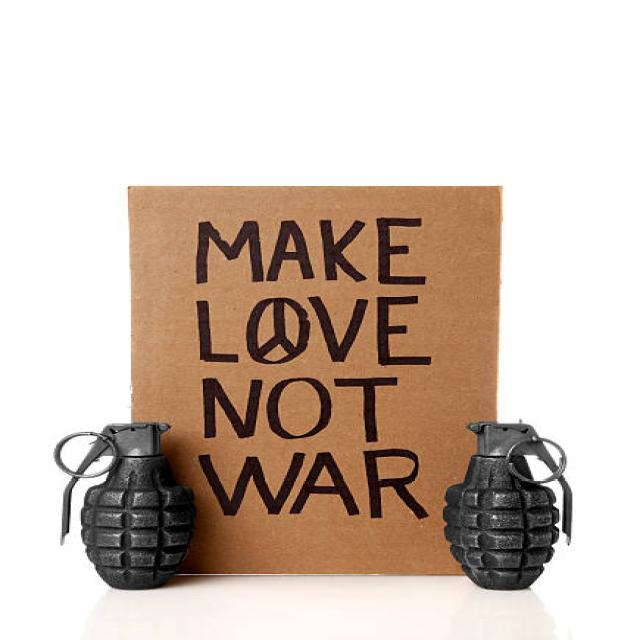grenade: (440, 403, 584, 595), (53, 416, 200, 598)
